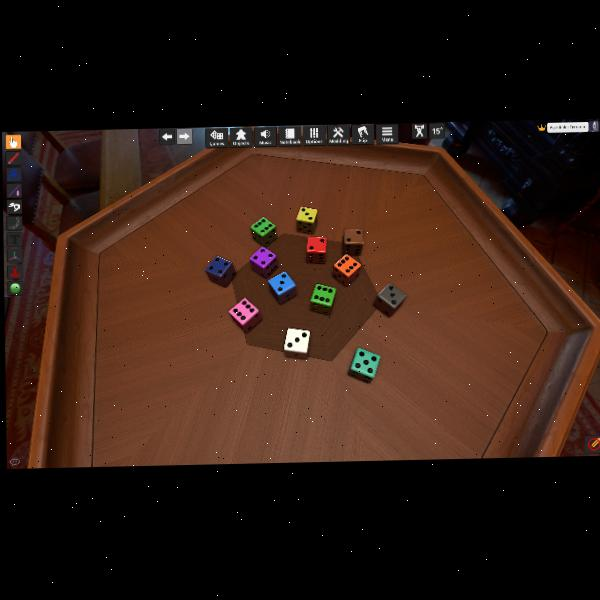d6: (228, 297, 261, 333), (347, 345, 380, 381), (374, 282, 405, 317), (205, 255, 235, 288), (333, 252, 361, 285), (250, 245, 278, 278), (268, 270, 295, 304), (249, 216, 276, 247), (283, 327, 309, 358), (310, 283, 335, 315), (296, 206, 317, 235), (341, 228, 362, 256), (306, 235, 326, 263)
